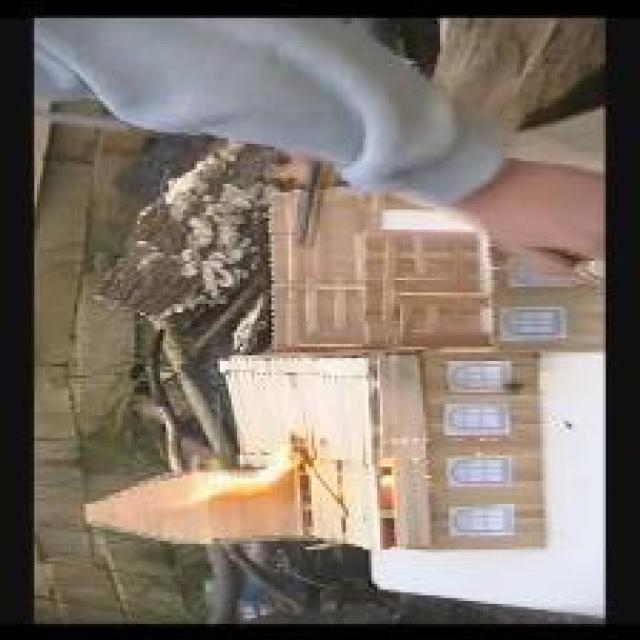Fire: (175, 447, 292, 504)
